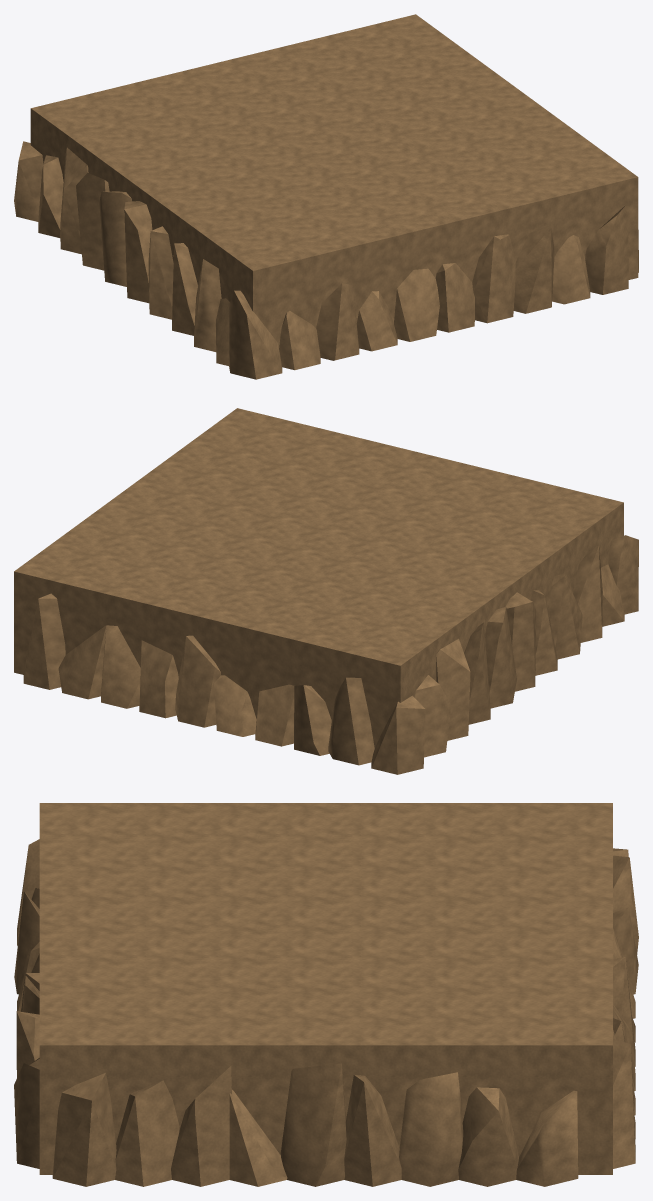
Rendered from terreno_plato.glb.
The picture shows the model from 3 angles, top to bottom: view 1: azimuth 30°, elevation 25°; view 2: azimuth 150°, elevation 25°; view 3: azimuth 270°, elevation 25°; orthographic projection. The views are drawn at different scales.
Parts seen in each view (by area): view 1: Body_Rock; view 2: Body_Rock; view 3: Body_Rock.
Boxes of the visible parts, x1=… form: Body_Rock: x1=14, y1=14, x2=638, y2=379; Body_Rock: x1=14, y1=408, x2=638, y2=774; Body_Rock: x1=14, y1=803, x2=638, y2=1186.
Bounding box in the file's own units: 17.63 × 4 × 17.45.
1 material, 1 textured.
